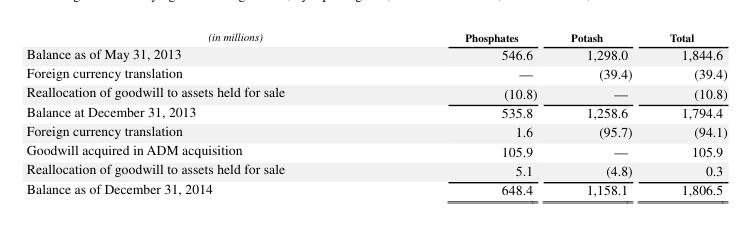table: (25, 29, 726, 197)
table column: (25, 29, 374, 197), (374, 29, 553, 197), (553, 29, 650, 197), (650, 29, 726, 197)
table column header: (25, 29, 726, 44)
table row: (25, 62, 726, 82), (25, 139, 726, 159), (25, 82, 726, 101), (25, 101, 726, 120), (25, 120, 726, 139), (25, 159, 726, 178), (25, 178, 726, 197), (25, 44, 726, 62), (25, 29, 726, 44)
